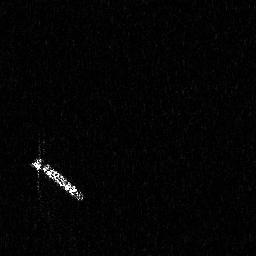ship: (24, 139, 85, 203)
